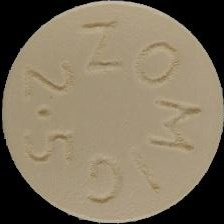0115-0671: (0, 0, 224, 224)
